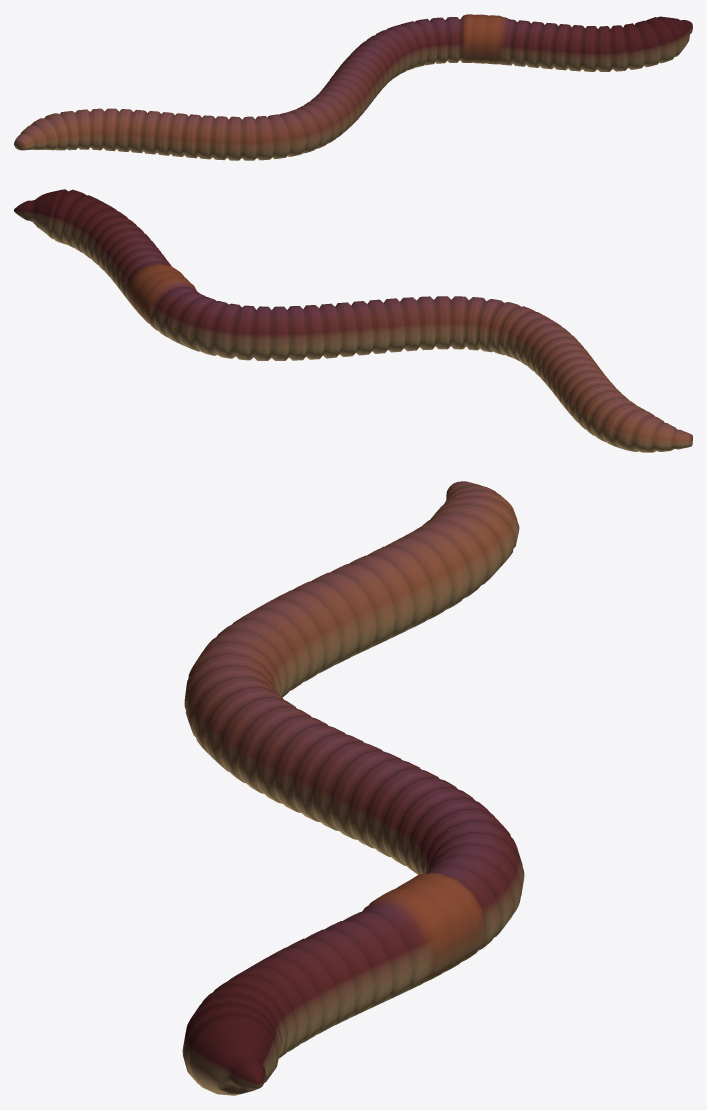
The model's file is earthworm-surface.glb.
The picture shows the model from 3 angles, top to bottom: view 1: azimuth 30°, elevation 25°; view 2: azimuth 150°, elevation 25°; view 3: azimuth 270°, elevation 25°; orthographic projection. The views are drawn at different scales.
Visible parts, largest first — view 1: earthworm-surface; view 2: earthworm-surface; view 3: earthworm-surface.
Boxes of the visible parts, x1,y1,x2,y2 form: earthworm-surface: [14, 14, 692, 160]; earthworm-surface: [14, 189, 692, 452]; earthworm-surface: [182, 481, 524, 1095].
Bounding box in the file's own units: 0.861 × 0.0602 × 0.2036.
